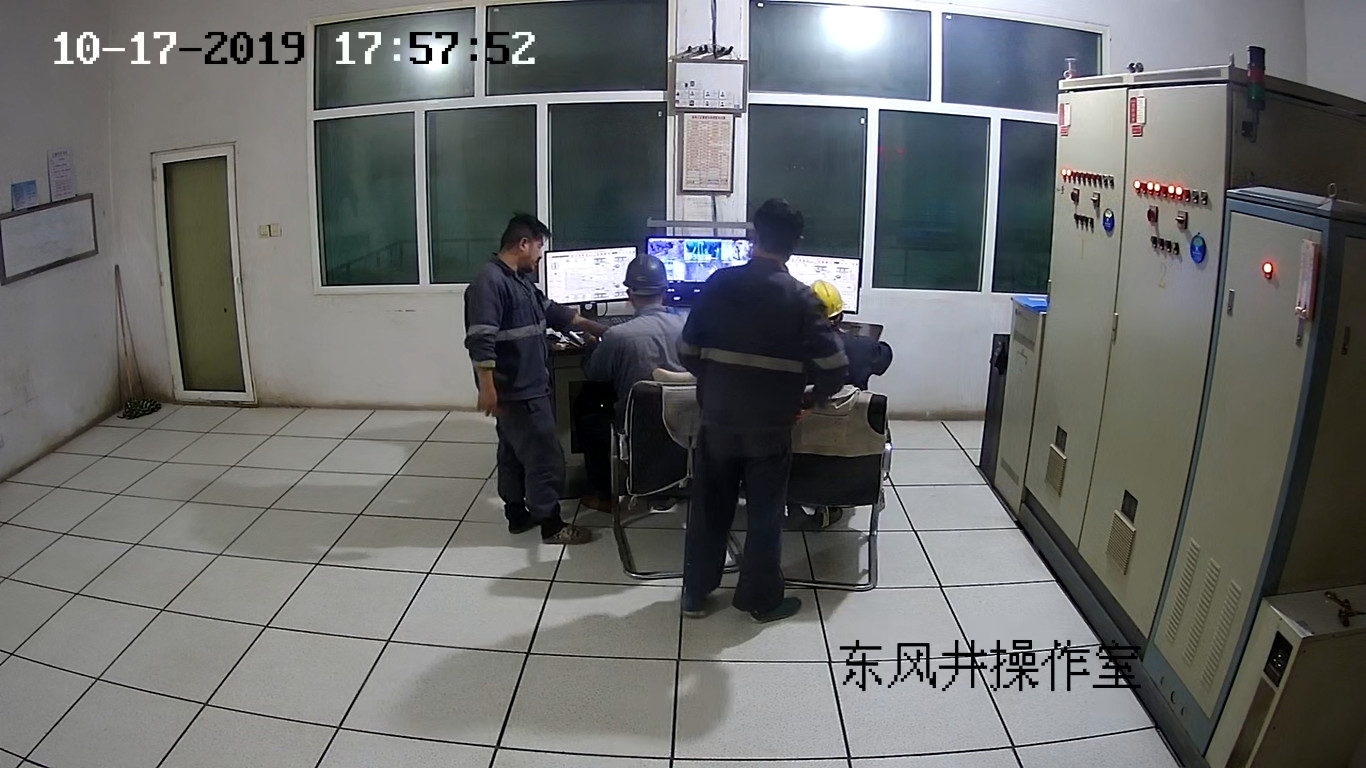helmet: (622, 253, 670, 288), (809, 280, 844, 318)
